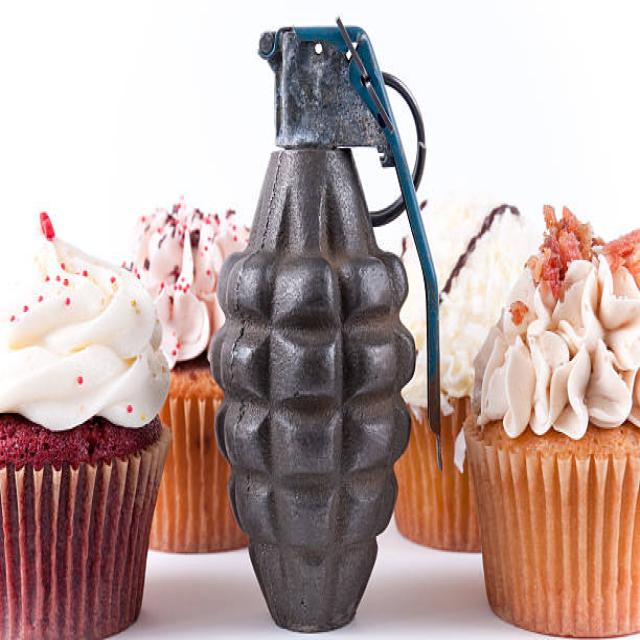grenade: (210, 13, 446, 640)
